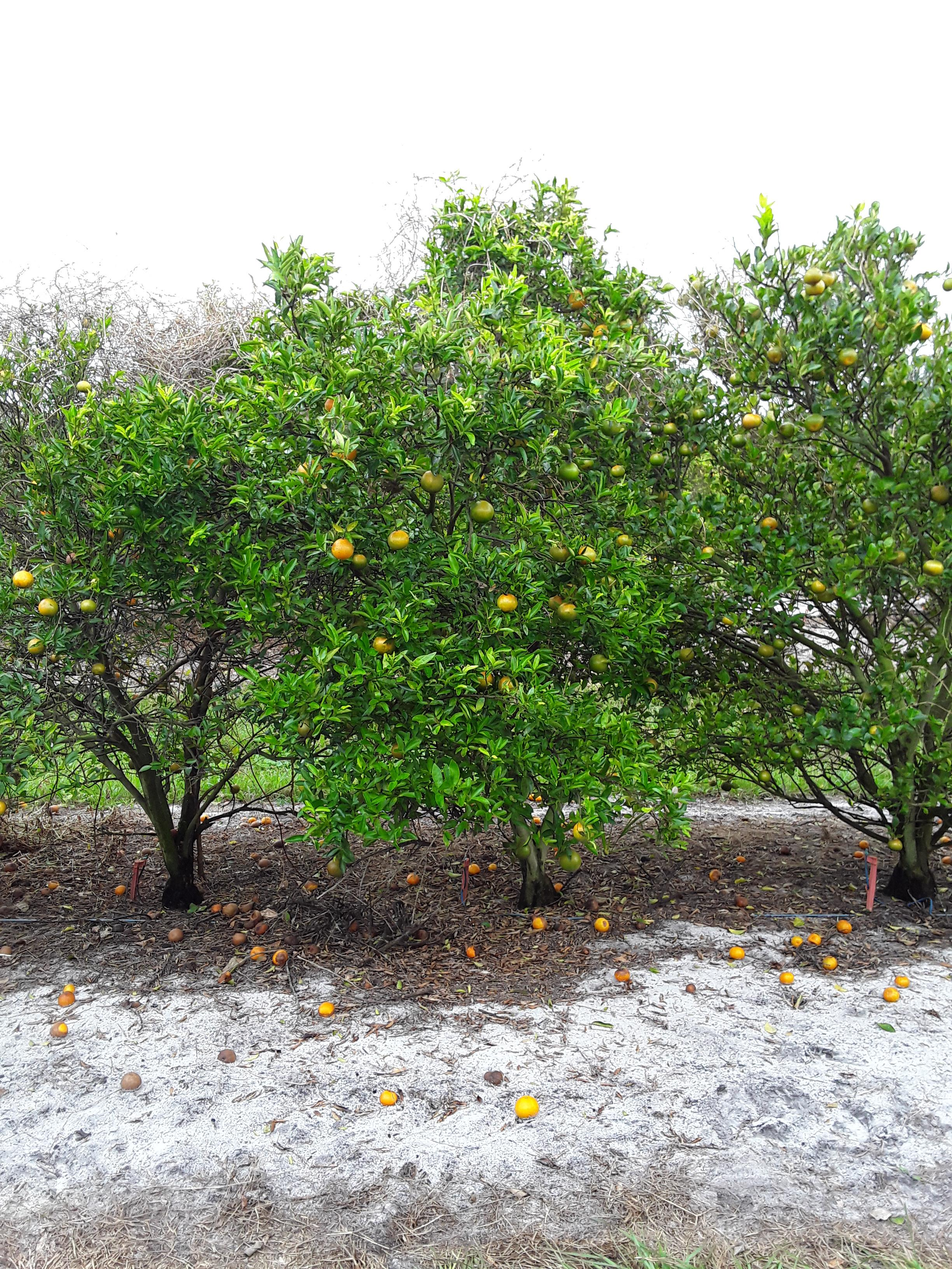fruit_on_ground: (326, 433, 359, 463), (864, 309, 895, 337), (295, 456, 325, 484), (468, 496, 497, 524), (419, 468, 447, 494), (555, 847, 583, 872), (385, 527, 411, 553), (329, 536, 355, 561), (180, 453, 207, 476), (370, 632, 397, 655), (495, 590, 520, 614), (928, 481, 952, 506), (472, 665, 495, 691), (908, 319, 934, 342), (565, 286, 589, 310), (803, 409, 827, 433), (814, 582, 839, 605), (575, 543, 600, 566), (556, 459, 581, 482), (10, 567, 36, 589), (570, 818, 594, 841), (321, 393, 345, 416), (836, 345, 860, 368), (556, 600, 580, 623), (495, 673, 518, 696), (548, 540, 571, 563), (37, 595, 60, 617), (921, 556, 945, 577), (600, 417, 625, 437), (588, 651, 610, 673), (764, 343, 787, 364), (324, 856, 345, 879), (802, 266, 824, 287), (757, 514, 780, 534), (802, 279, 827, 297), (899, 278, 920, 299), (640, 675, 661, 696), (105, 522, 127, 542), (858, 686, 879, 706), (888, 547, 909, 567), (350, 551, 370, 572), (123, 499, 143, 519), (616, 316, 636, 336), (25, 635, 45, 655), (727, 429, 748, 448), (387, 741, 408, 760), (734, 466, 754, 485), (592, 320, 612, 339), (860, 496, 880, 515), (777, 419, 796, 439), (78, 596, 98, 615), (61, 549, 82, 567), (515, 839, 533, 860), (741, 412, 762, 430), (808, 576, 827, 595), (676, 645, 696, 663), (577, 454, 596, 472), (662, 419, 681, 437), (607, 461, 626, 479), (821, 269, 839, 288), (757, 641, 776, 659), (697, 542, 717, 559), (615, 532, 635, 549), (727, 370, 745, 388), (647, 449, 665, 467), (648, 419, 667, 436), (745, 304, 764, 321), (719, 611, 738, 628), (574, 320, 593, 337), (296, 719, 313, 738), (678, 440, 697, 457), (788, 701, 806, 718), (546, 593, 564, 610), (74, 376, 91, 394), (704, 323, 721, 340), (757, 767, 774, 784), (788, 744, 805, 761), (91, 660, 108, 677), (689, 405, 707, 421), (78, 313, 94, 330), (866, 722, 883, 738), (719, 778, 735, 795), (887, 835, 903, 851), (771, 635, 787, 651), (940, 275, 952, 295), (166, 759, 182, 774), (46, 651, 61, 665), (229, 781, 243, 794), (0, 797, 9, 815), (111, 668, 123, 681)
fruit_on_tree: (514, 1094, 540, 1119), (120, 1070, 142, 1091), (378, 1088, 399, 1108), (482, 1067, 504, 1086), (244, 909, 263, 928), (270, 947, 289, 966), (248, 944, 269, 961), (593, 915, 611, 934), (49, 1020, 68, 1038), (883, 985, 902, 1003), (217, 1047, 237, 1064), (318, 1000, 336, 1018), (531, 914, 548, 932), (166, 926, 184, 943), (56, 991, 75, 1007), (230, 930, 247, 946), (894, 973, 911, 989), (821, 954, 838, 970), (728, 945, 746, 960), (284, 932, 301, 947), (614, 967, 631, 982), (836, 918, 853, 933), (779, 970, 795, 985), (806, 931, 822, 946), (414, 927, 429, 942), (406, 871, 421, 886), (551, 920, 567, 934), (253, 921, 269, 935), (464, 943, 478, 959), (301, 879, 318, 892), (60, 981, 77, 994), (218, 970, 233, 984), (585, 897, 600, 911), (734, 893, 749, 907), (3, 860, 19, 873), (790, 933, 804, 947), (530, 791, 545, 804), (529, 813, 544, 826), (1, 942, 14, 957), (112, 883, 127, 896), (223, 902, 238, 915), (258, 856, 272, 869), (708, 867, 722, 880), (466, 862, 480, 875), (552, 879, 565, 892), (305, 944, 319, 956), (197, 812, 211, 824), (48, 803, 61, 815), (939, 855, 952, 867), (272, 837, 285, 849), (47, 878, 60, 890), (857, 837, 870, 849), (208, 901, 222, 912), (278, 879, 290, 891), (939, 833, 951, 845), (852, 849, 865, 860), (39, 885, 51, 896), (684, 982, 696, 993), (487, 860, 499, 871), (779, 844, 791, 855), (261, 814, 273, 825), (245, 815, 257, 825), (735, 854, 747, 864), (249, 849, 259, 860)
